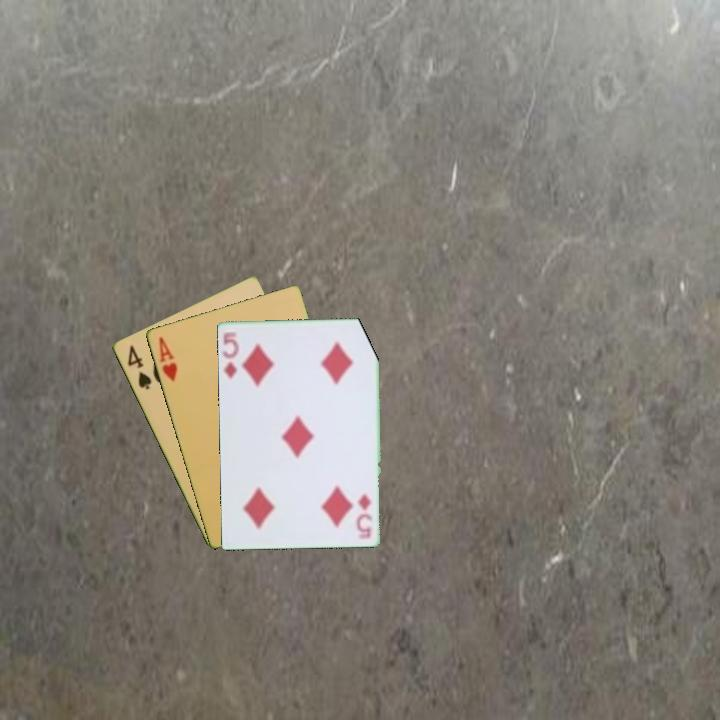4s: (123, 341, 154, 393)
5d: (218, 327, 241, 381), (355, 490, 375, 541)
Ah: (155, 333, 180, 384)
